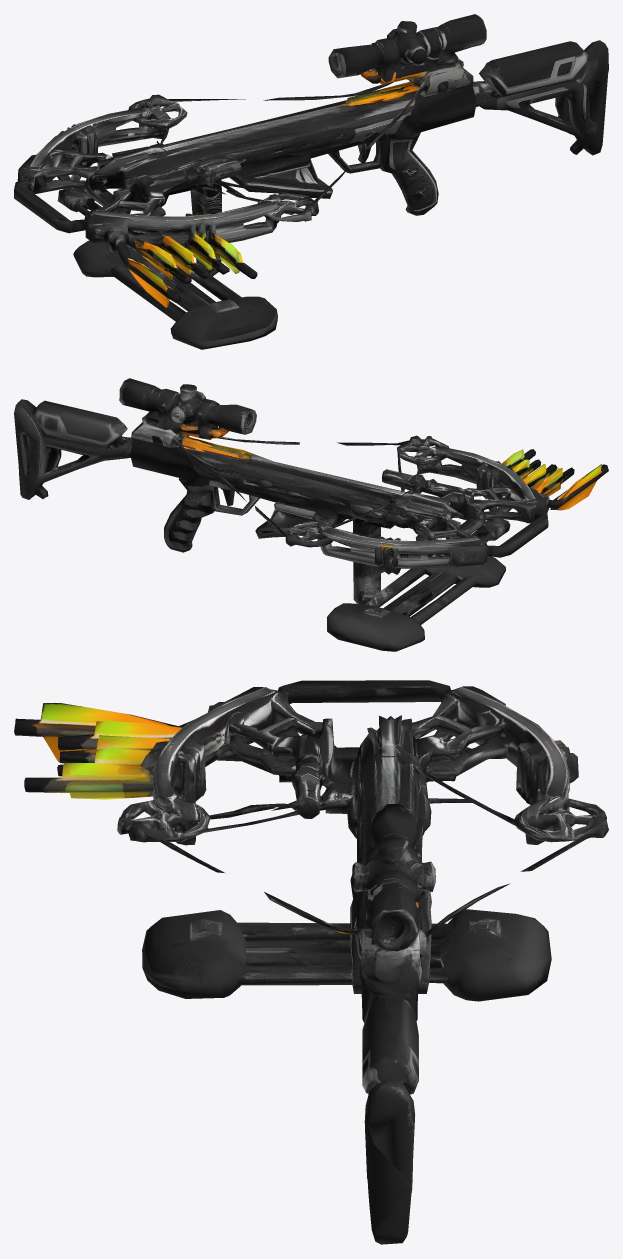
The model's file is CrossBow.fbx.
3 renders of one model, top to bottom at view 1: azimuth 30°, elevation 25°; view 2: azimuth 150°, elevation 25°; view 3: azimuth 270°, elevation 25°, orthographic. The views are drawn at different scales.
Parts seen in each view (by area): view 1: Mesh_0; view 2: Mesh_0; view 3: Mesh_0.
Part boxes in pixels (x1,y1,x2,y2): Mesh_0: (14,14,608,349); Mesh_0: (14,378,608,651); Mesh_0: (14,680,608,1244).
Size of the model in its own units: 191 by 63.31 by 111.
Materials: 1 (1 with a texture image).
